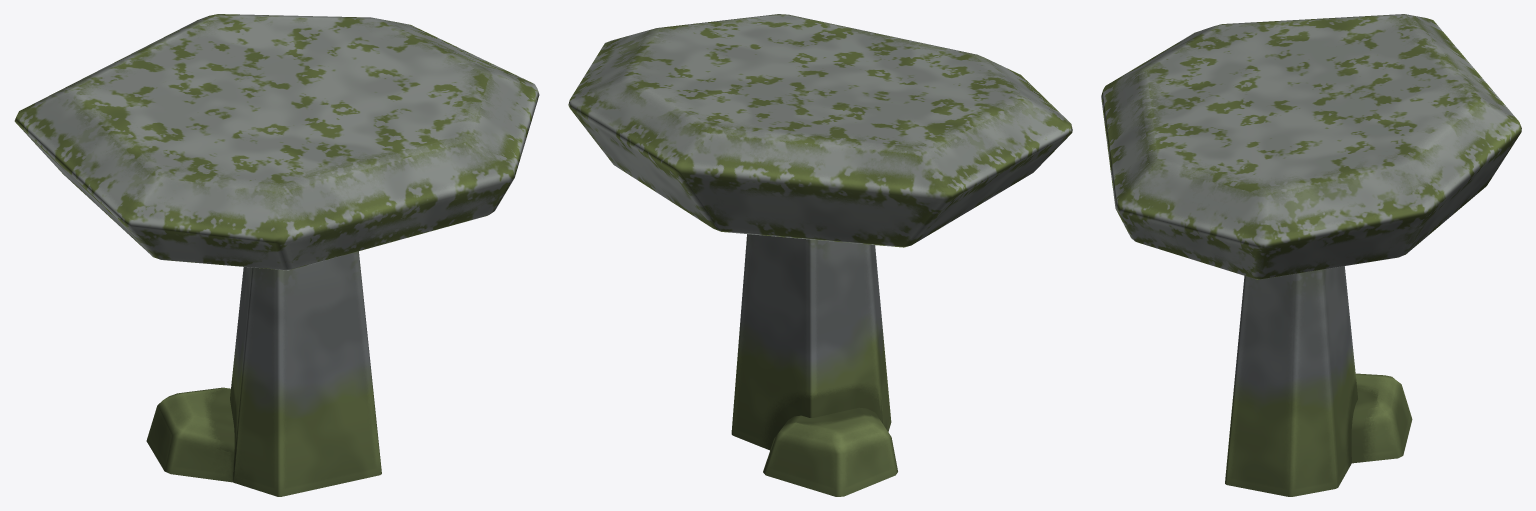
File: table_rock_1_mossy.glb
The picture shows the model from 3 angles, left to right: view 1: azimuth 30°, elevation 25°; view 2: azimuth 150°, elevation 25°; view 3: azimuth 270°, elevation 25°; orthographic projection. The views are drawn at different scales.
Visible parts, largest first — view 1: table_rock_1_mossy; view 2: table_rock_1_mossy; view 3: table_rock_1_mossy.
Part boxes in pixels (x1,y1,x2,y2): table_rock_1_mossy: (14,14,539,496); table_rock_1_mossy: (568,14,1072,496); table_rock_1_mossy: (1101,14,1521,496).
Bounding box in the file's own units: 3.6 × 2.9 × 3.
Materials: 1 (1 with a texture image).
